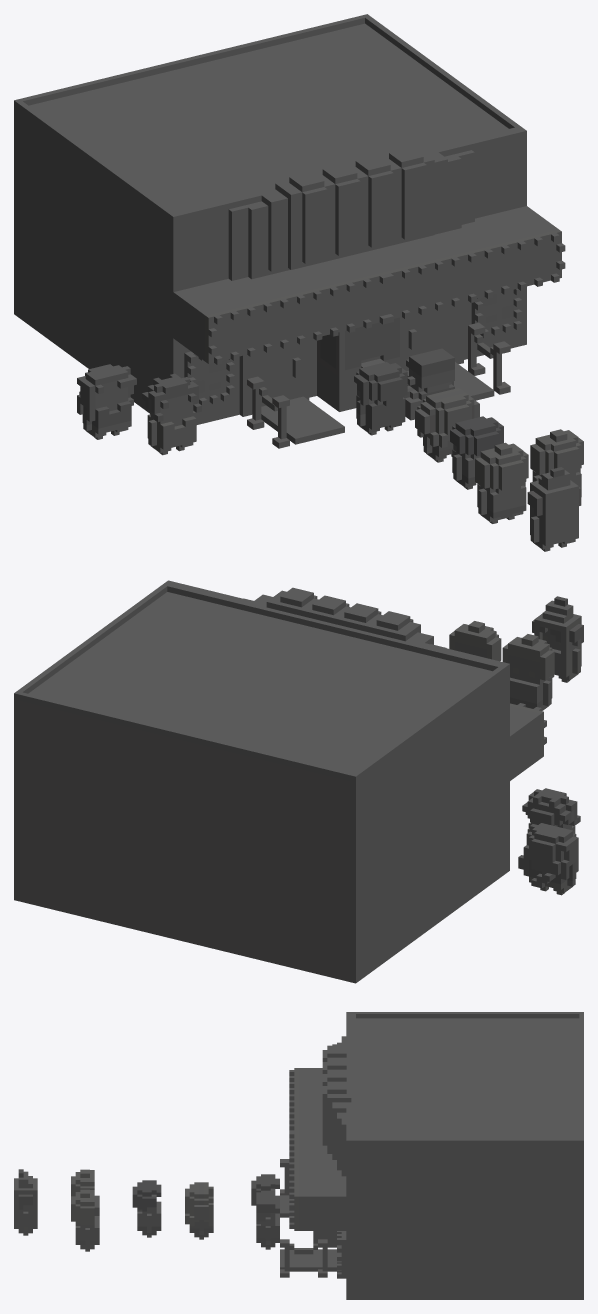
File: scene_theater.obj
The picture shows the model from 3 angles, top to bottom: view 1: azimuth 30°, elevation 25°; view 2: azimuth 150°, elevation 25°; view 3: azimuth 270°, elevation 25°; orthographic projection. The views are drawn at different scales.
Size of the model in its own units: 78 by 39 by 120.
